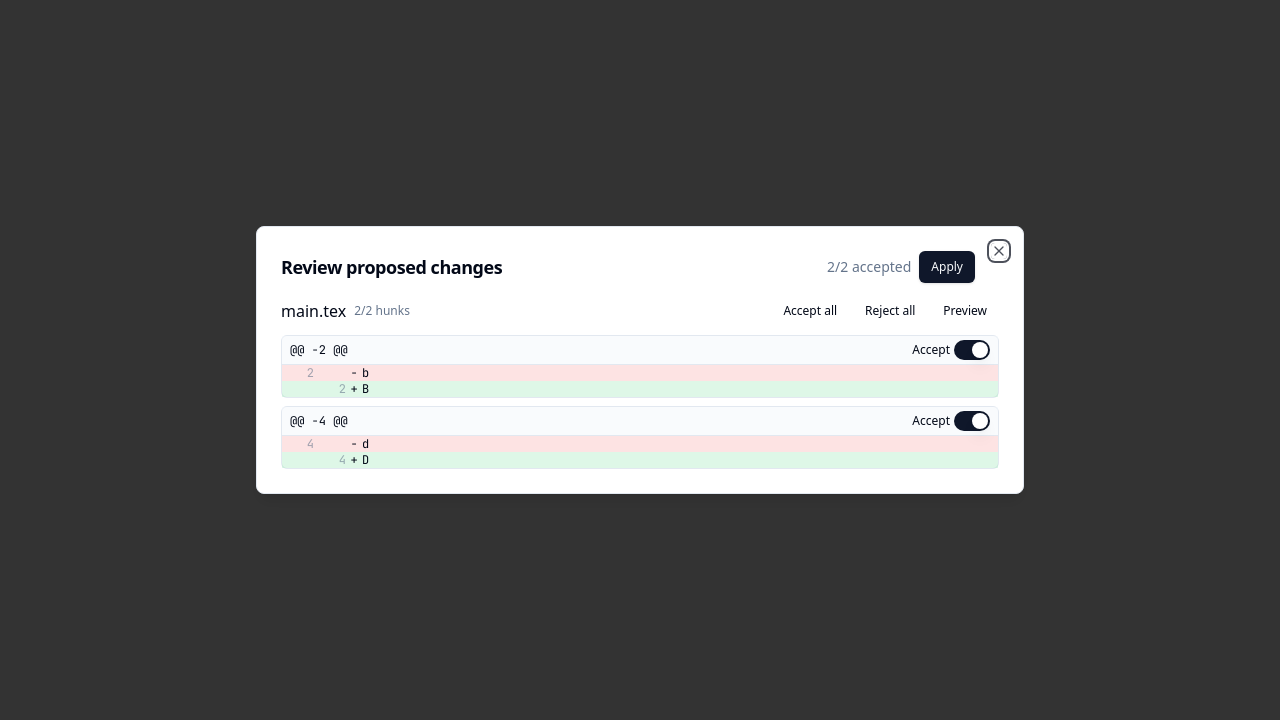
DiffReviewDialog (accept/reject) › toggling a hunk updates the accepted counter (AC2)
Check: the text "main.tex" is shown, box [281,299,346,323]
Click the switch named "Accept change: @@ -4 @@" at (972, 421), box [954,411,990,431]
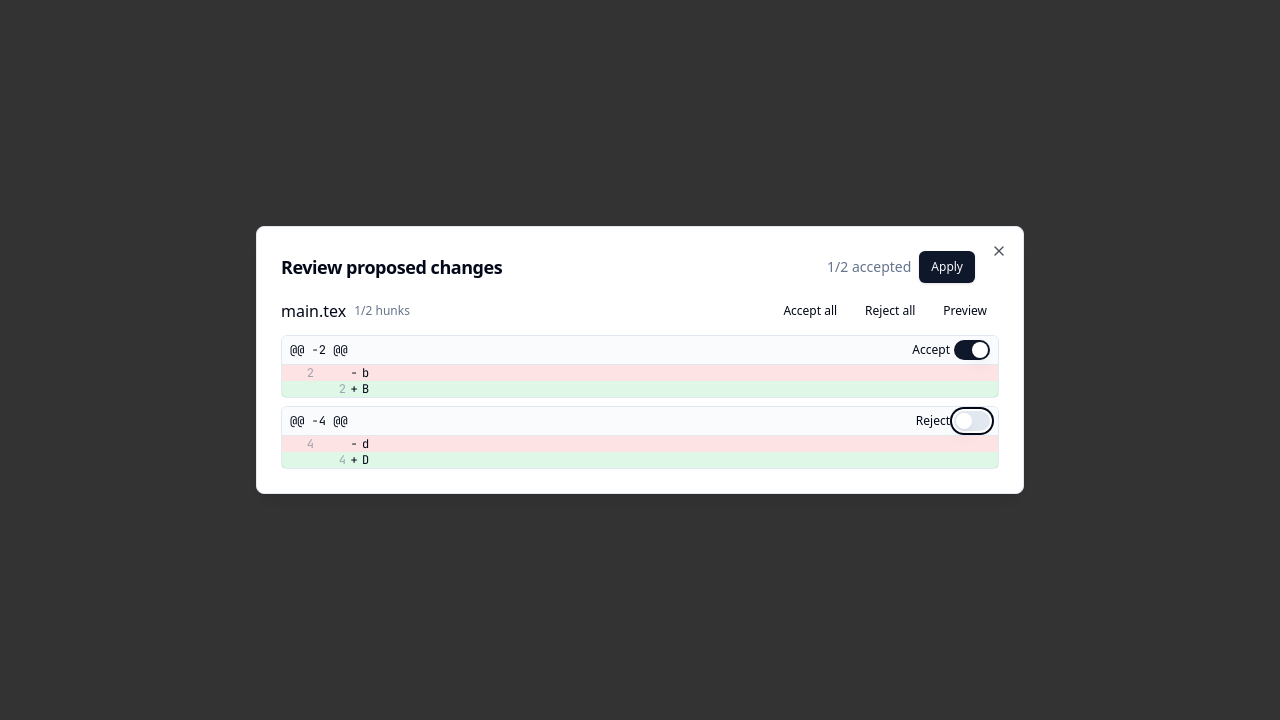
Check: the text "1/2 accepted" is shown, box [827,257,911,277]
